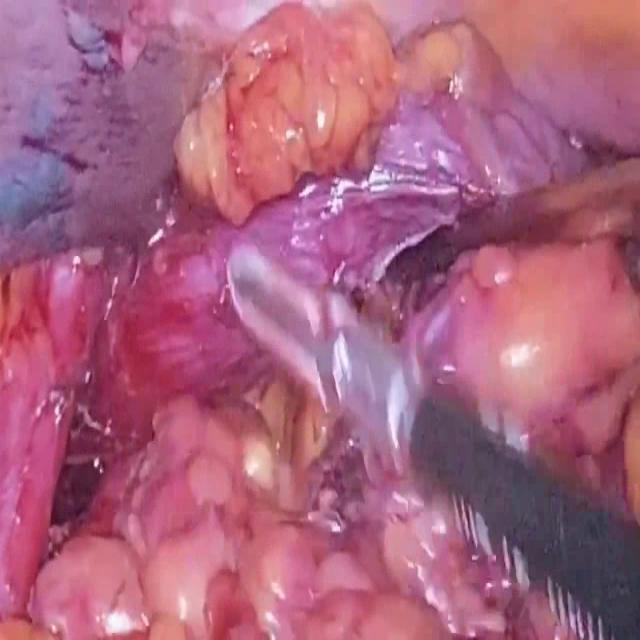surgical-tool: (226, 239, 640, 639)
